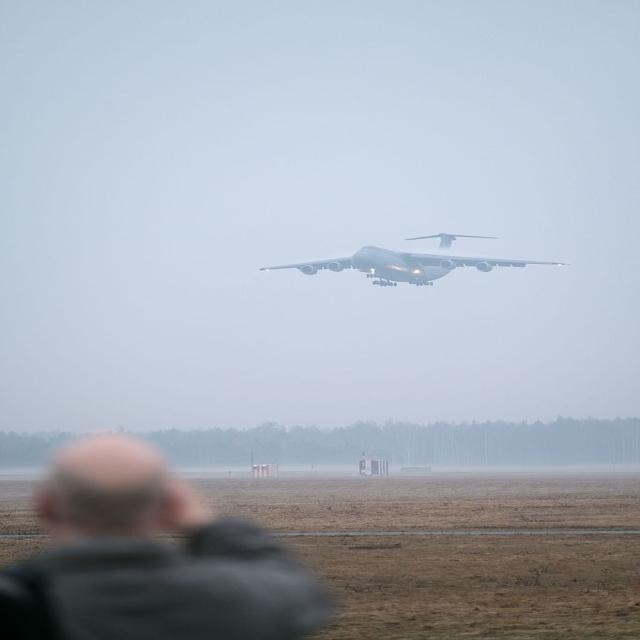MIL_Plane: (276, 255, 545, 264)
